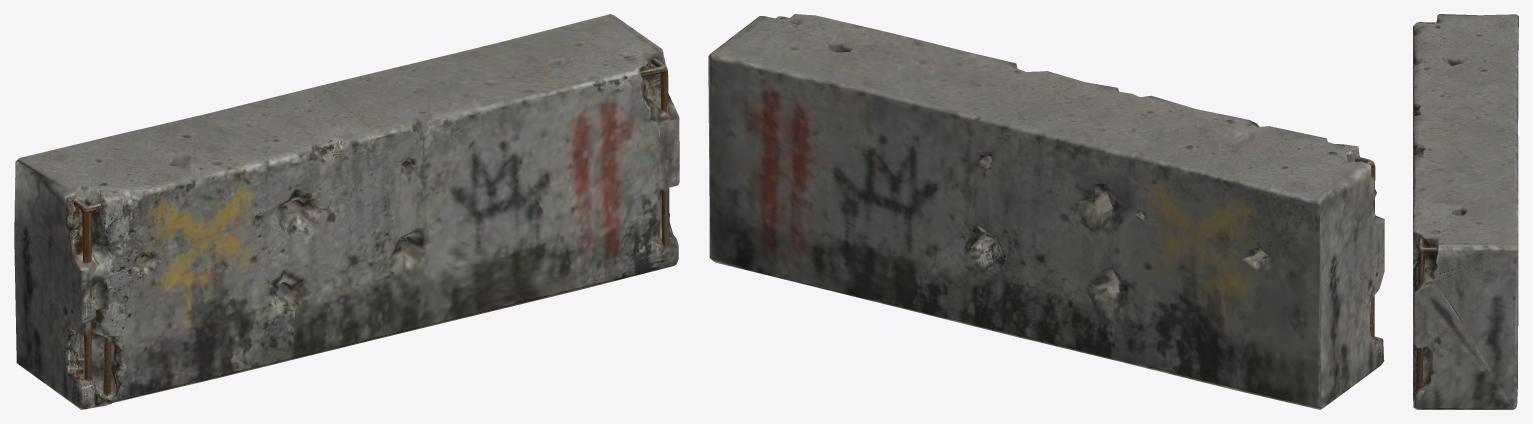
File: concrete_block_cover.glb
The picture shows the model from 3 angles, left to right: view 1: azimuth 30°, elevation 25°; view 2: azimuth 150°, elevation 25°; view 3: azimuth 270°, elevation 25°; orthographic projection. The views are drawn at different scales.
Visible parts, largest first — view 1: Meshy_AI_concrete_block_cover_3d_20261028_texture; view 2: Meshy_AI_concrete_block_cover_3d_20261028_texture; view 3: Meshy_AI_concrete_block_cover_3d_20261028_texture.
Part boxes in pixels (x1=…): Meshy_AI_concrete_block_cover_3d_20261028_texture: x1=14, y1=14, x2=679, y2=409; Meshy_AI_concrete_block_cover_3d_20261028_texture: x1=708, y1=14, x2=1384, y2=409; Meshy_AI_concrete_block_cover_3d_20261028_texture: x1=1413, y1=14, x2=1518, y2=409.
Bounding box in the file's own units: 2 × 0.664 × 0.3824.
1 material, 1 textured.
